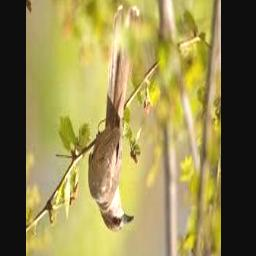Cuckoo: (88, 6, 139, 232)
